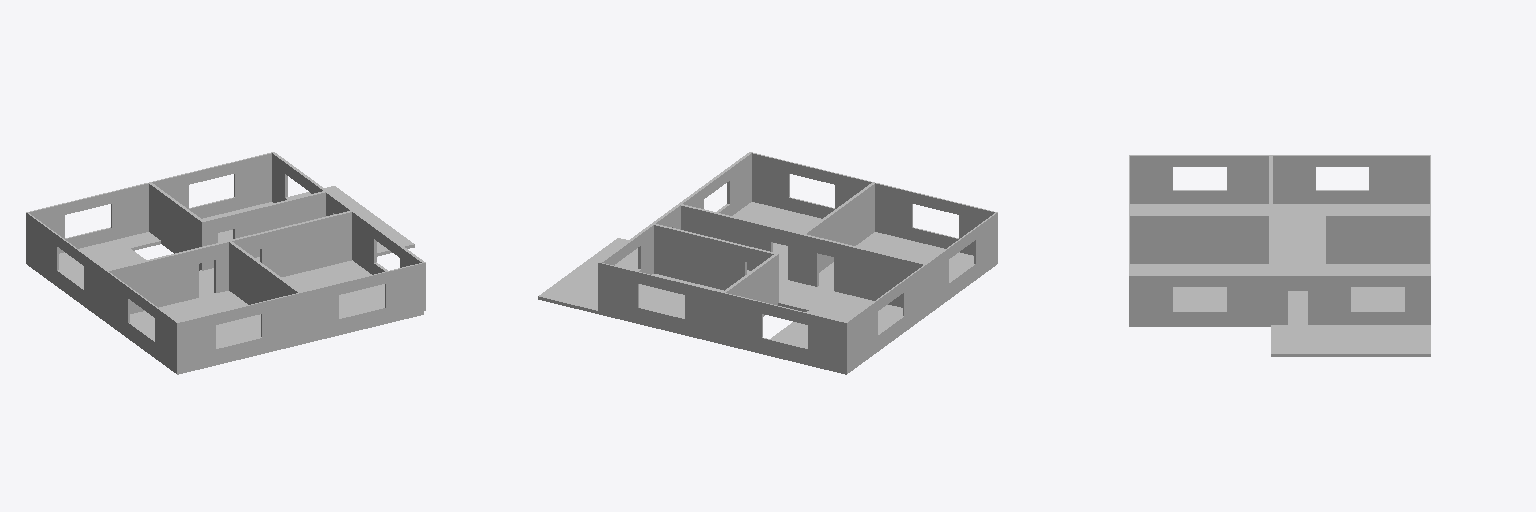
File: house_second_floor.obj
3 renders of one model, left to right at view 1: azimuth 30°, elevation 25°; view 2: azimuth 150°, elevation 25°; view 3: azimuth 270°, elevation 25°, orthographic.
Visible parts, largest first — view 1: Cube.029_Mesh, Cube.036_Mesh, Cube.038_Mesh, Cube.040_Mesh, Cube.037_Mesh, Cube.030_Mesh, Cube.046_Mesh, Cube.043_Mesh, Cube.076_Mesh, Cube.031_Mesh, Cube.044_Mesh, Cube.042_Mesh (+1 smaller); view 2: Cube.036_Mesh, Cube.029_Mesh, Cube.038_Mesh, Cube.043_Mesh, Cube.037_Mesh, Cube.031_Mesh, Cube.030_Mesh, Cube.040_Mesh, Cube.042_Mesh, Cube.033_Mesh, Cube.046_Mesh, Cube.076_Mesh (+2 smaller); view 3: Cube.038_Mesh, Cube.030_Mesh, Cube.042_Mesh, Cube.044_Mesh, Cube.033_Mesh, Cube.031_Mesh, Cube.076_Mesh, Cube.034_Mesh, Cube.046_Mesh, Cube.047_Mesh.
Boxes of the visible parts, x1=… form: Cube.029_Mesh: x1=177, y1=263, x2=422, y2=370; Cube.036_Mesh: x1=26, y1=152, x2=272, y2=260; Cube.038_Mesh: x1=26, y1=212, x2=178, y2=371; Cube.040_Mesh: x1=228, y1=211, x2=351, y2=276; Cube.037_Mesh: x1=105, y1=241, x2=228, y2=319; Cube.030_Mesh: x1=272, y1=152, x2=425, y2=311; Cube.046_Mesh: x1=106, y1=291, x2=300, y2=374; Cube.043_Mesh: x1=200, y1=191, x2=326, y2=269; Cube.076_Mesh: x1=282, y1=260, x2=423, y2=344; Cube.031_Mesh: x1=26, y1=232, x2=213, y2=321; Cube.044_Mesh: x1=149, y1=182, x2=204, y2=270; Cube.042_Mesh: x1=228, y1=241, x2=301, y2=341; Cube.036_Mesh: x1=600, y1=262, x2=846, y2=371; Cube.029_Mesh: x1=751, y1=152, x2=997, y2=260; Cube.038_Mesh: x1=845, y1=212, x2=997, y2=370; Cube.043_Mesh: x1=652, y1=224, x2=778, y2=302; Cube.037_Mesh: x1=804, y1=234, x2=927, y2=311; Cube.031_Mesh: x1=723, y1=284, x2=926, y2=374; Cube.030_Mesh: x1=598, y1=152, x2=751, y2=311; Cube.040_Mesh: x1=680, y1=204, x2=802, y2=282; Cube.042_Mesh: x1=801, y1=182, x2=874, y2=283; Cube.033_Mesh: x1=538, y1=238, x2=637, y2=314; Cube.046_Mesh: x1=818, y1=232, x2=997, y2=315; Cube.076_Mesh: x1=733, y1=202, x2=821, y2=278; Cube.038_Mesh: x1=1130, y1=155, x2=1429, y2=203; Cube.030_Mesh: x1=1129, y1=275, x2=1430, y2=324; Cube.042_Mesh: x1=1130, y1=214, x2=1272, y2=263; Cube.044_Mesh: x1=1325, y1=214, x2=1430, y2=263; Cube.033_Mesh: x1=1271, y1=324, x2=1430, y2=356; Cube.031_Mesh: x1=1273, y1=204, x2=1429, y2=263; Cube.076_Mesh: x1=1129, y1=264, x2=1270, y2=326; Cube.034_Mesh: x1=1326, y1=264, x2=1429, y2=309; Cube.046_Mesh: x1=1130, y1=204, x2=1268, y2=213; Cube.047_Mesh: x1=1273, y1=264, x2=1322, y2=323.
Size of the model in its own units: 40 by 6.4 by 34.